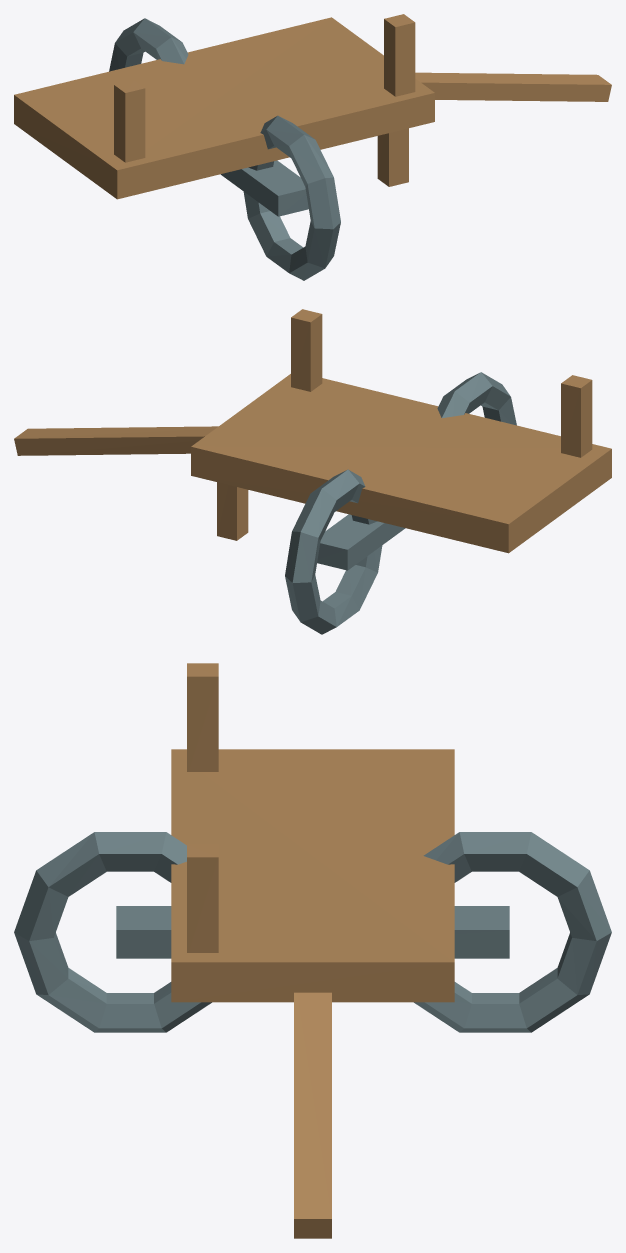
The model's file is Hand-Cart.glb.
The picture shows the model from 3 angles, top to bottom: view 1: azimuth 30°, elevation 25°; view 2: azimuth 150°, elevation 25°; view 3: azimuth 270°, elevation 25°; orthographic projection. The views are drawn at different scales.
Parts seen in each view (by area): view 1: wind-pump-static-hand-cart-deck-timber, wind-pump-static-hand-cart-dark-iron; view 2: wind-pump-static-hand-cart-deck-timber, wind-pump-static-hand-cart-dark-iron; view 3: wind-pump-static-hand-cart-deck-timber, wind-pump-static-hand-cart-dark-iron.
Part boxes in pixels (bbox=[...]): wind-pump-static-hand-cart-deck-timber: bbox=[14, 14, 611, 199]; wind-pump-static-hand-cart-dark-iron: bbox=[109, 18, 340, 280]; wind-pump-static-hand-cart-deck-timber: bbox=[14, 309, 611, 553]; wind-pump-static-hand-cart-dark-iron: bbox=[285, 372, 516, 634]; wind-pump-static-hand-cart-deck-timber: bbox=[171, 663, 454, 1238]; wind-pump-static-hand-cart-dark-iron: bbox=[14, 832, 611, 1032].
Bounding box in the file's own units: 2.72 × 0.955 × 1.9.
